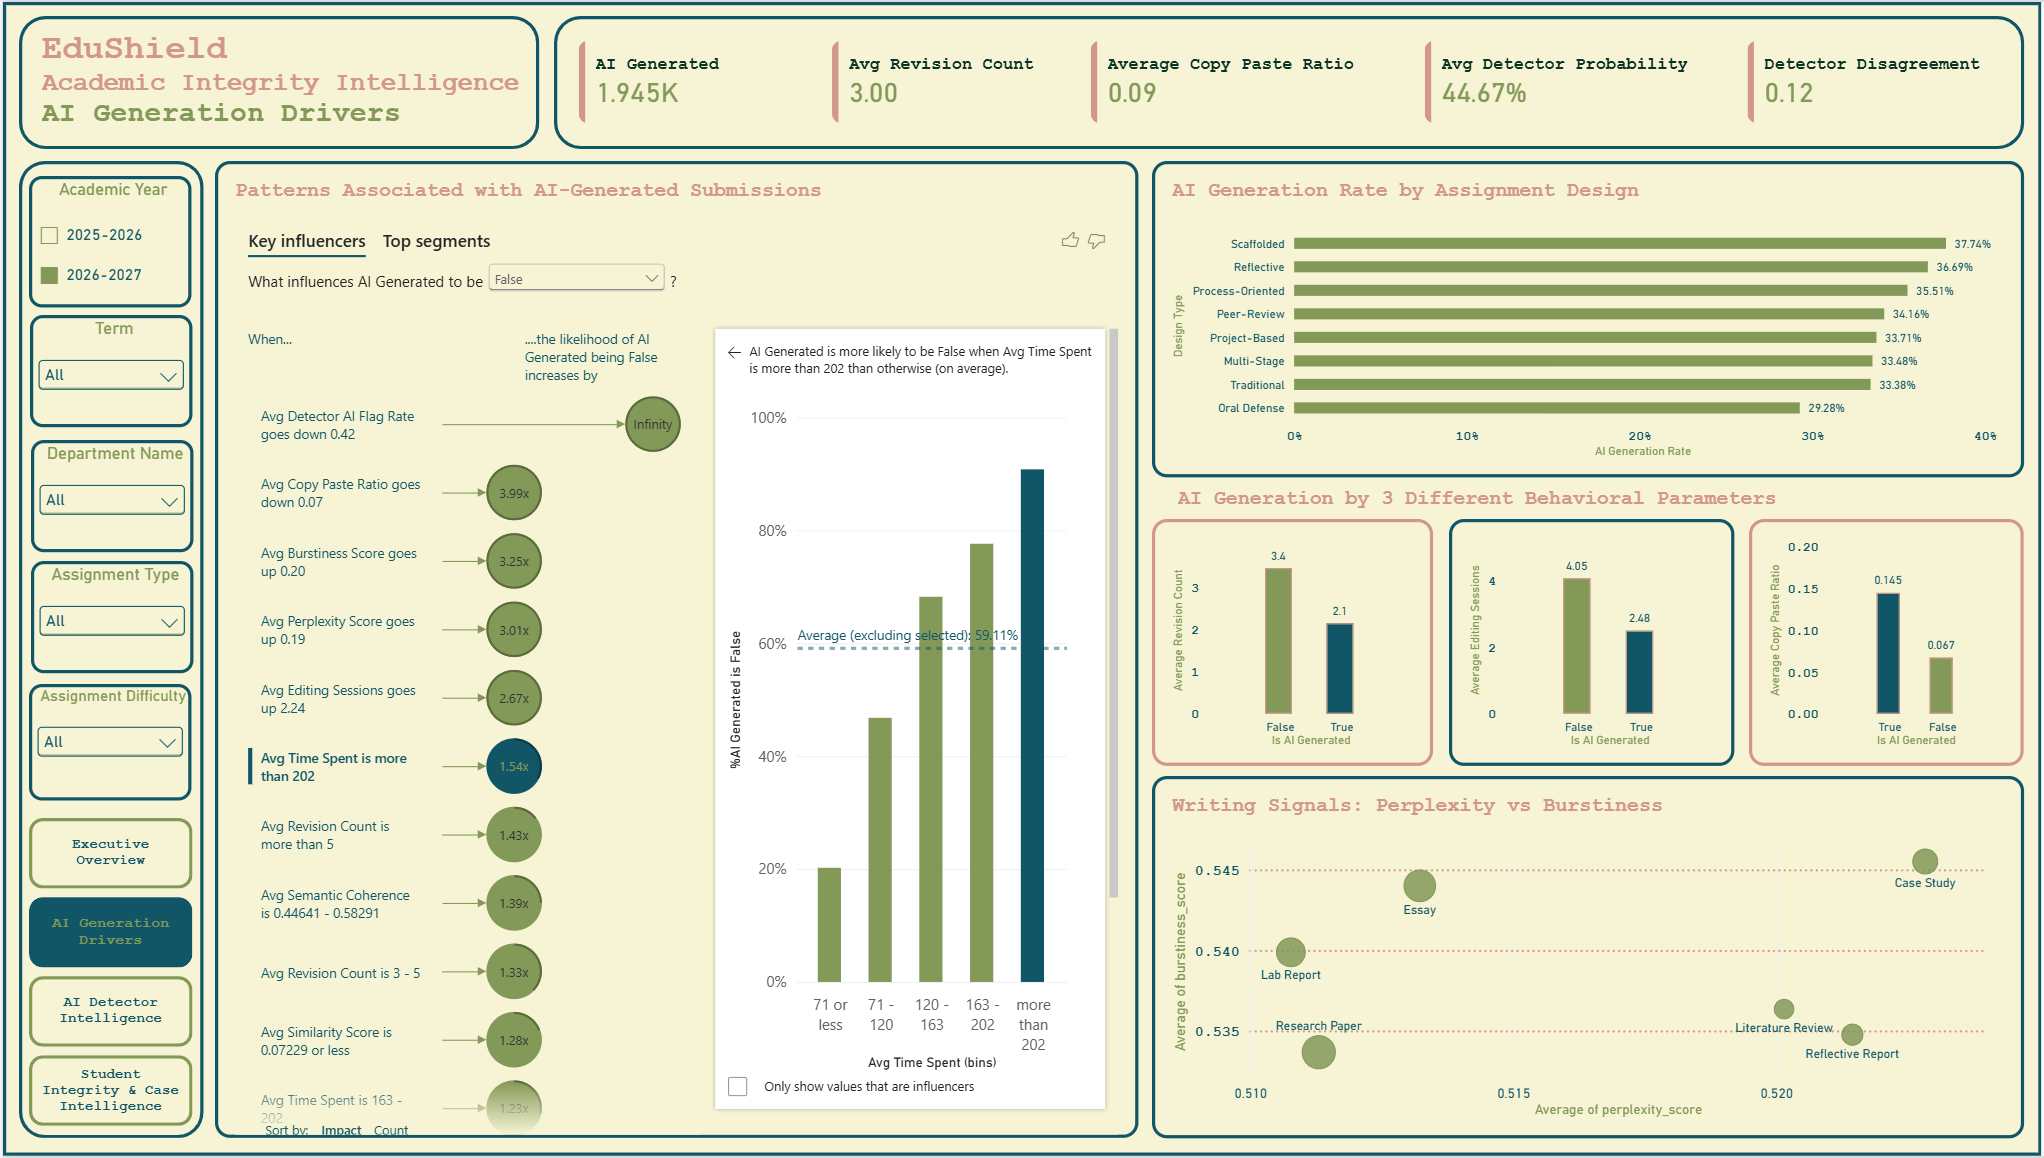

This screenshot's page, from the dashboard's own definition file:
{"tool":"powerbi","page":{"name":"AI Generation Drivers","canvas":[1920,1080],"ordinal":1},"visuals":[{"type":"shape","box":[0,0,1907.4,1079.5],"z":0},{"type":"shape","box":[15.1,13.2,486.8,124.5],"z":1000},{"type":"textbox","box":[36.8,25.5,834,112.3],"z":2000},{"type":"shape","box":[15.1,149.1,172.7,914.2],"z":3000},{"type":"shape","box":[515.1,13.2,1375.6,124.5],"z":4000},{"type":"cardVisual","fields":{"Data":["1_All_Measures.AI Generated Submissions","1_All_Measures.Average Revision Count"]},"box":[527.7,25.3,470.6,99.2],"z":5000},{"type":"cardVisual","fields":{"Data":["1_All_Measures.Average Detector Probability","1_All_Measures.Average Detector Disagreement"]},"box":[1319.3,25.3,600.7,99.2],"z":6000},{"type":"clusteredBarChart","title":"AI Generation Rate by Assignment Design","fields":{"Category":["vw_submission_analytics.design_type"],"Y":["1_All_Measures.AI Generation Rate"]},"box":[1075.1,148.8,815.9,295.7],"z":7000},{"type":"keyDriversVisual","title":"Patterns Associated with AI-Generated Submissions","fields":{"Target":["vw_submission_analytics.is_ai_generated"],"ExplainBy":["vw_submission_analytics.assignment_type","vw_submission_analytics.assignment_difficulty","vw_submission_analytics.allowed_ai_usage","Avg(vw_submission_analytics.prompt_complexity)","Avg(vw_submission_analytics.open_endedness)","Avg(vw_submission_analytics.rubric_specificity)","Avg(vw_submission_analytics.similarity_score)","Avg(vw_submission_analytics.copy_paste_ratio)","Avg(vw_submission_analytics.editing_sessions)","Avg(vw_submission_analytics.revision_count)","Avg(vw_submission_analytics.time_spent_minutes)","Avg(vw_submission_analytics.perplexity_score)"]},"box":[198.4,148.8,863.6,914.2],"z":8000},{"type":"cardVisual","fields":{"Data":["1_All_Measures.Average Copy Paste Ratio"]},"box":[1006.8,25.3,295.7,99.2],"z":9000},{"type":"clusteredColumnChart","title":"Submission Composition by Assignment Type","fields":{"Category":["vw_submission_analytics.is_ai_generated"],"Y":["1_All_Measures.Average Revision Count"]},"box":[1075.1,483.7,262.9,231.1],"z":10000},{"type":"clusteredColumnChart","title":"Submission Composition by Assignment Type","fields":{"Category":["vw_submission_analytics.is_ai_generated"],"Y":["1_All_Measures.Average Copy Paste Ratio"]},"box":[1633.7,483.7,257.3,231.1],"z":11000},{"type":"clusteredColumnChart","title":"Submission Composition by Assignment Type","fields":{"Category":["vw_submission_analytics.is_ai_generated"],"Y":["Avg(vw_submission_analytics.editing_sessions)"]},"box":[1353,483.7,266.7,231.1],"z":12000},{"type":"textbox","box":[1099.4,453.8,588.5,58.9],"z":13000},{"type":"scatterChart","title":"Writing Signals: Perplexity vs Burstiness","fields":{"Category":["vw_submission_analytics.assignment_type"],"X":["Avg(vw_submission_analytics.perplexity_score)"],"Size":["1_All_Measures.Total Submissions"],"Y":["Avg(vw_submission_analytics.burstiness_score)"]},"box":[1075.1,724.2,815.9,338.7],"z":14000},{"type":"pageNavigator","box":[24.3,763.5,153.5,290.1],"z":14001},{"type":"slicer","title":"Academic Year","fields":{"Values":["academic_terms.academic_year"]},"box":[24.3,162.8,151.6,122.6],"z":14002},{"type":"slicer","title":"Term","fields":{"Values":["academic_terms.term_name"]},"box":[25.3,292.9,151.6,104.8],"z":14003},{"type":"slicer","title":"Department Name","fields":{"Values":["departments.department_name"]},"box":[26.2,409.8,151.6,104.8],"z":14004},{"type":"slicer","title":"Assignment Type","fields":{"Values":["assignments.assignment_type"]},"box":[26.2,523,151.6,104.8],"z":14005},{"type":"slicer","title":"Assignment Difficulty","fields":{"Values":["vw_submission_analytics.assignment_difficulty"]},"box":[24.3,638.1,151.6,108.5],"z":14006}]}

Visuals, with their boxes in screenshot pixels (x1, y1, x2, y2), scaled from the page's 1920x1080 canvas onto the 2044x1158 screenshot:
shape: 0,0,2031,1157
shape: 16,14,534,148
textbox: 39,27,927,148
shape: 16,160,200,1140
shape: 548,14,2013,148
cardVisual - 1_All_Measures.AI Generated Submissions x 1_All_Measures.Average Revision Count: 562,27,1063,133
cardVisual - 1_All_Measures.Average Detector Probability x 1_All_Measures.Average Detector Disagreement: 1405,27,2043,133
"AI Generation Rate by Assignment Design" clusteredBarChart: 1145,160,2013,477
"Patterns Associated with AI-Generated Submissions" keyDriversVisual: 211,160,1131,1140
cardVisual - 1_All_Measures.Average Copy Paste Ratio: 1072,27,1387,133
"Submission Composition by Assignment Type" clusteredColumnChart: 1145,519,1424,766
"Submission Composition by Assignment Type" clusteredColumnChart: 1739,519,2013,766
"Submission Composition by Assignment Type" clusteredColumnChart: 1440,519,1724,766
textbox: 1170,487,1797,550
"Writing Signals: Perplexity vs Burstiness" scatterChart: 1145,777,2013,1140
pageNavigator: 26,819,189,1130
"Academic Year" slicer: 26,175,187,306
"Term" slicer: 27,314,188,426
"Department Name" slicer: 28,439,189,552
"Assignment Type" slicer: 28,561,189,673
"Assignment Difficulty" slicer: 26,684,187,801
